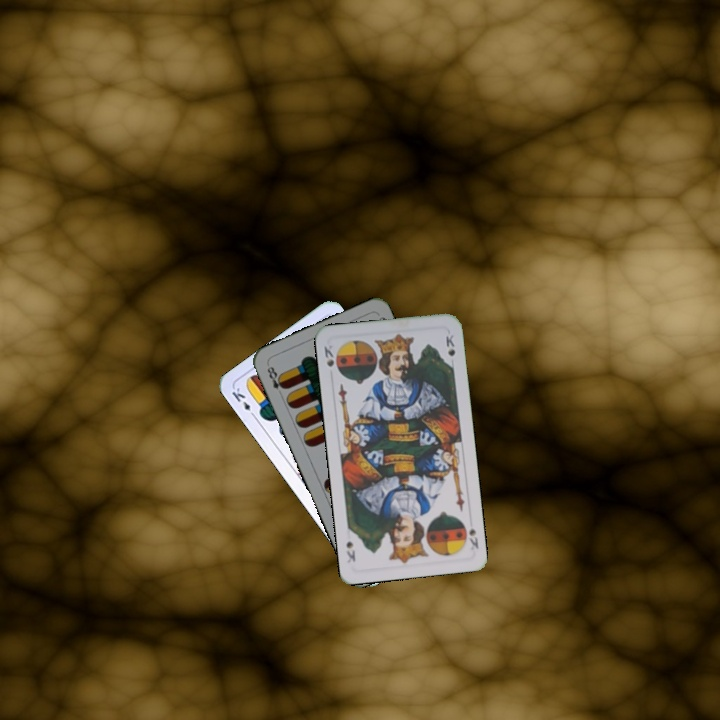E8: (263, 361, 288, 399)
EK: (227, 383, 259, 421)
SK: (459, 517, 481, 555), (320, 342, 341, 375)
